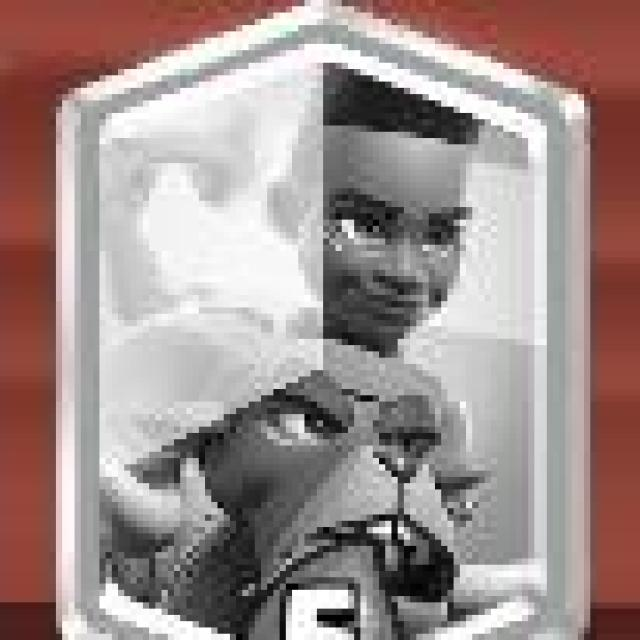Ram_Rider: (48, 2, 588, 640)
